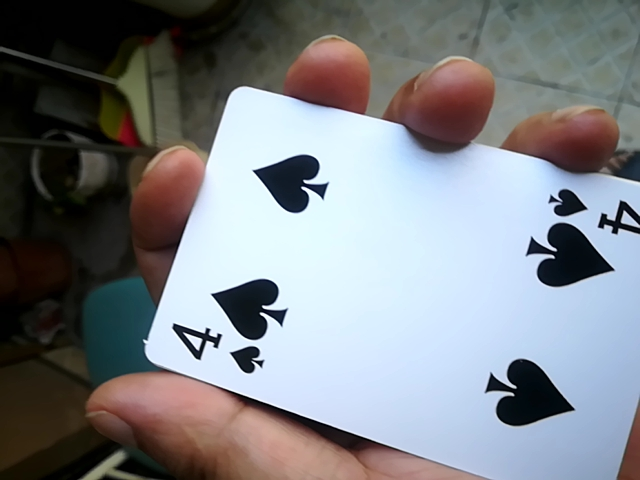ht 4: (118, 82, 640, 480)
